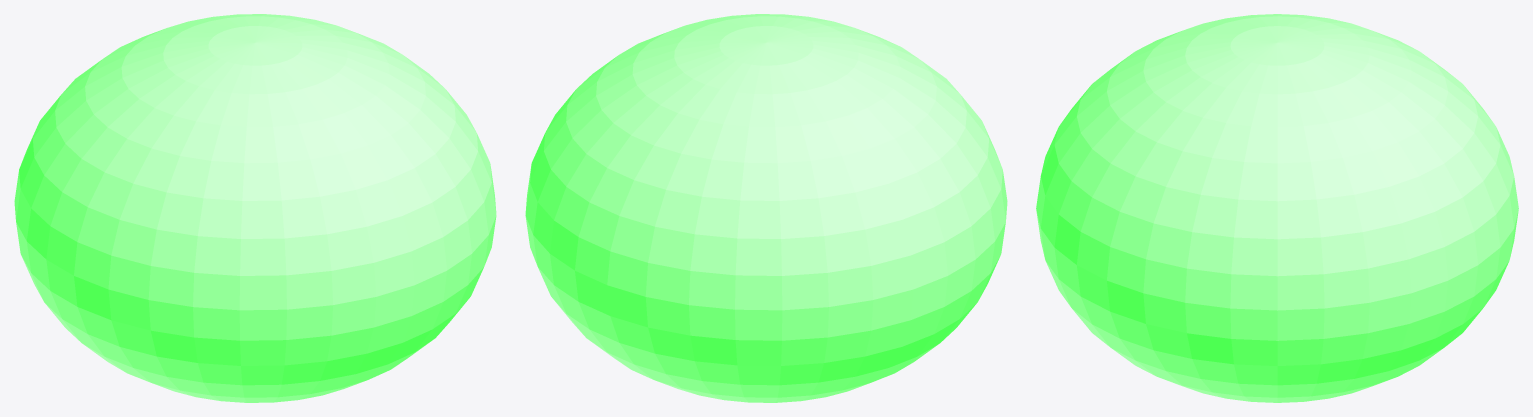
File: BAP_LICHT.glb
The picture shows the model from 3 angles, left to right: view 1: azimuth 30°, elevation 25°; view 2: azimuth 150°, elevation 25°; view 3: azimuth 270°, elevation 25°; orthographic projection.
Parts seen in each view (by area): view 1: B.A.P_LICHT*; view 2: B.A.P_LICHT*; view 3: B.A.P_LICHT*.
Boxes of the visible parts, x1,y1,x2,y2 form: B.A.P_LICHT*: [14, 14, 496, 402]; B.A.P_LICHT*: [525, 14, 1007, 402]; B.A.P_LICHT*: [1036, 14, 1518, 402].
Size of the model in its own units: 0.1673 by 0.1268 by 0.1673.
